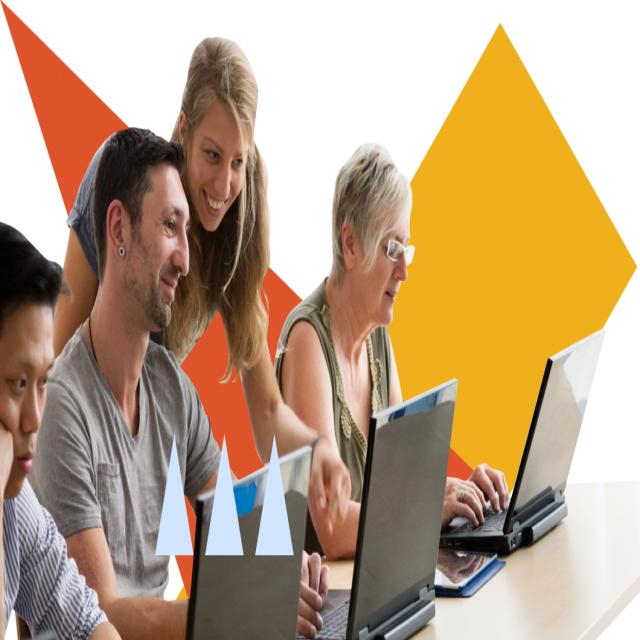adult: (28, 124, 331, 639), (53, 38, 352, 532), (267, 141, 510, 561), (0, 221, 123, 640)
